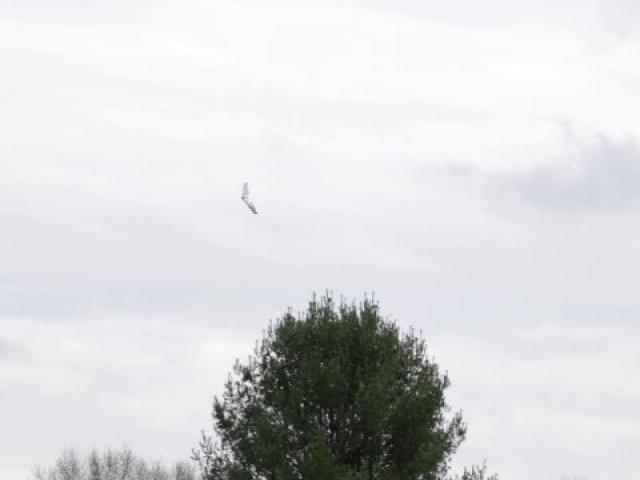flying wing: (239, 183, 260, 218)
